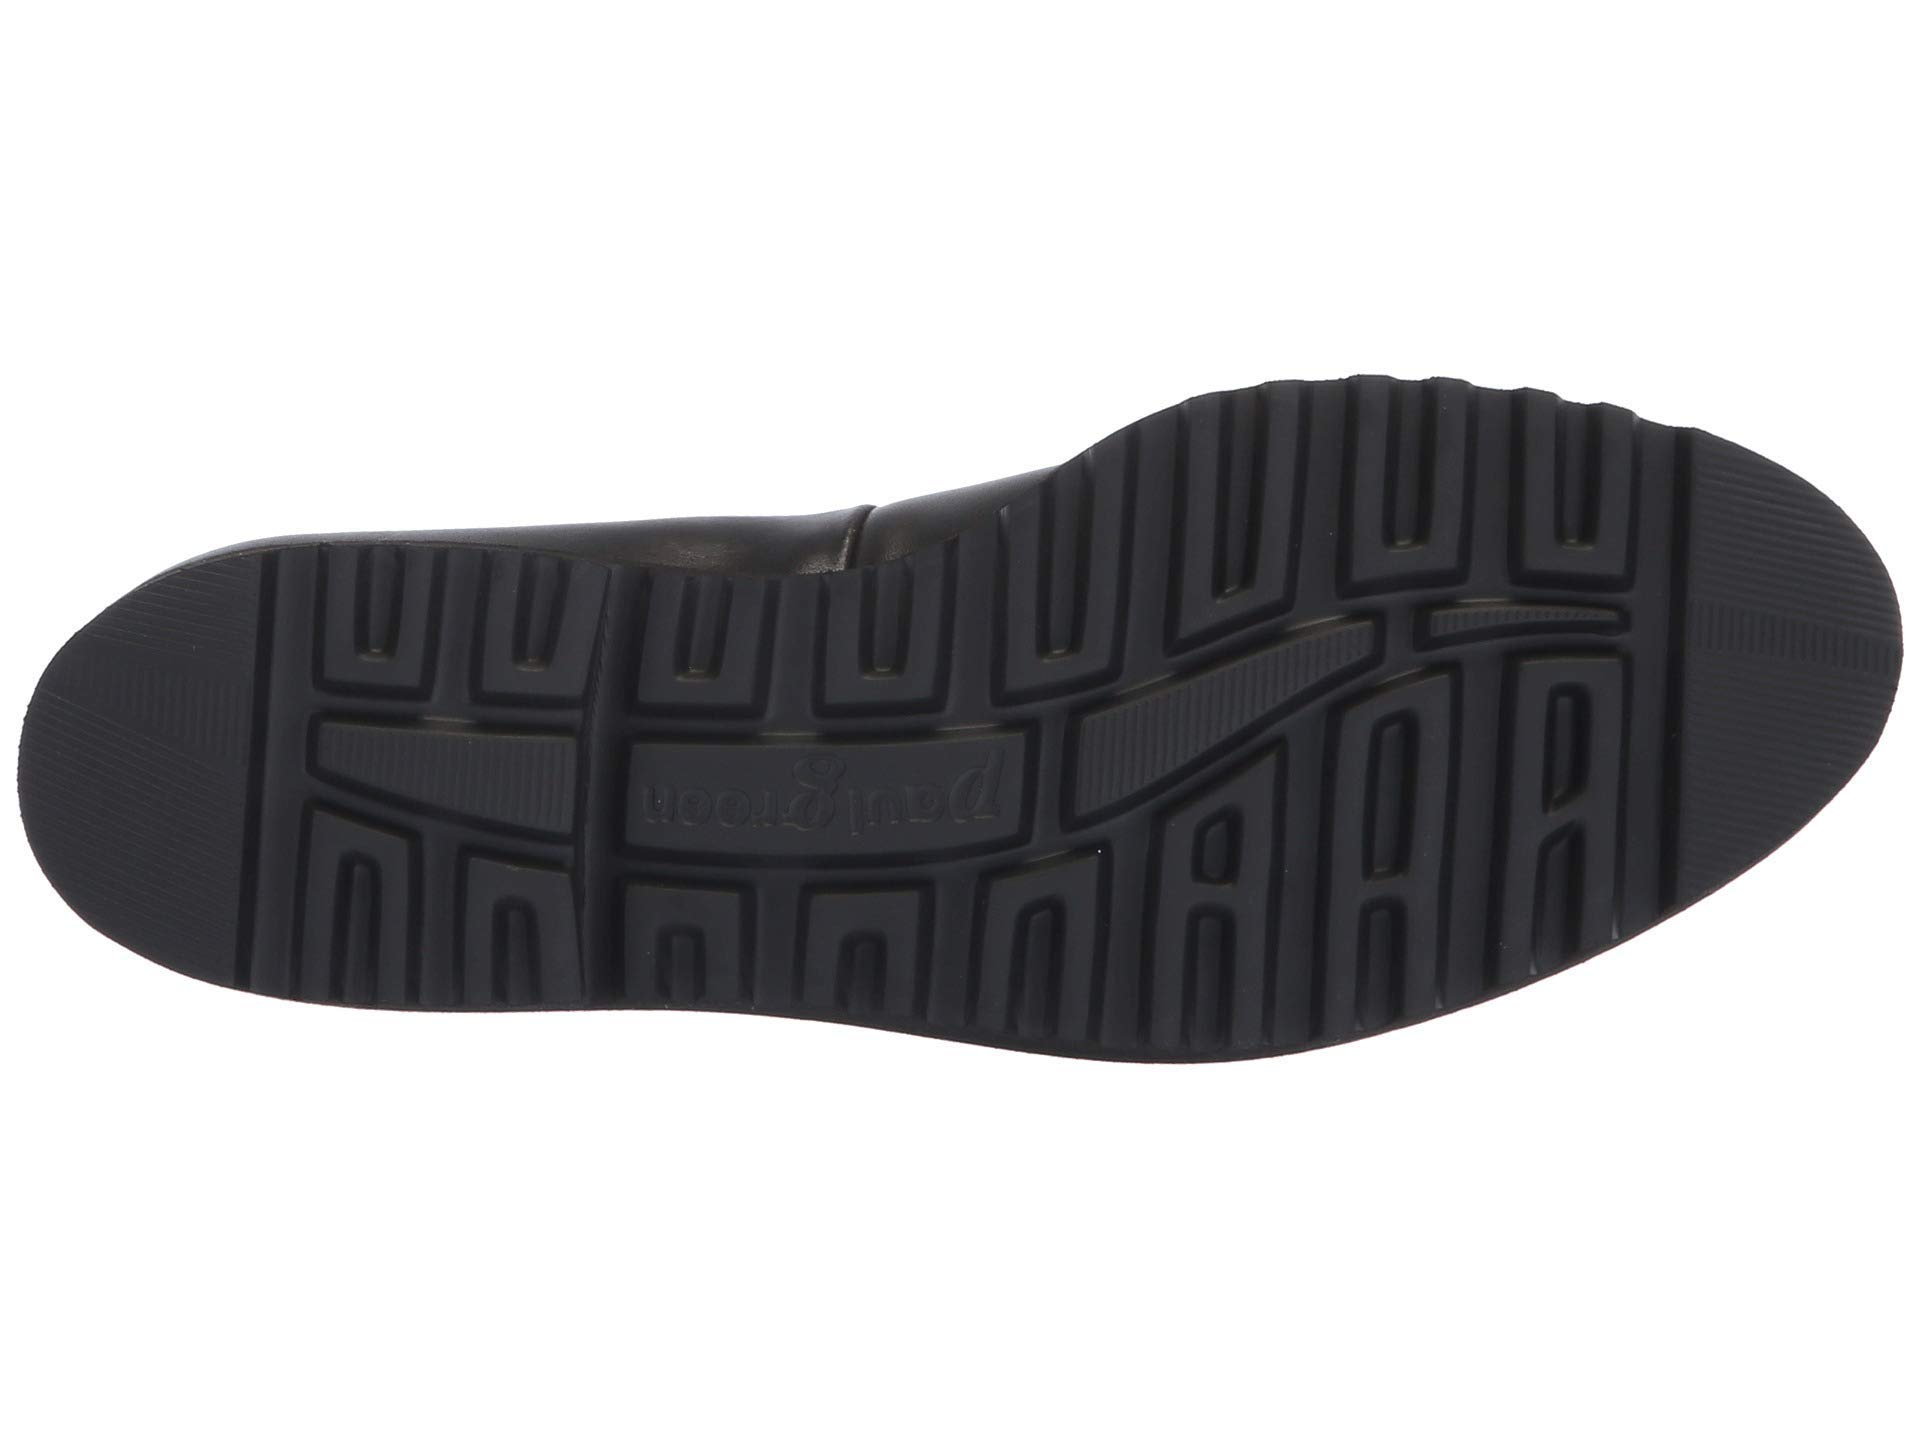quad: (1147, 368, 1492, 765)
